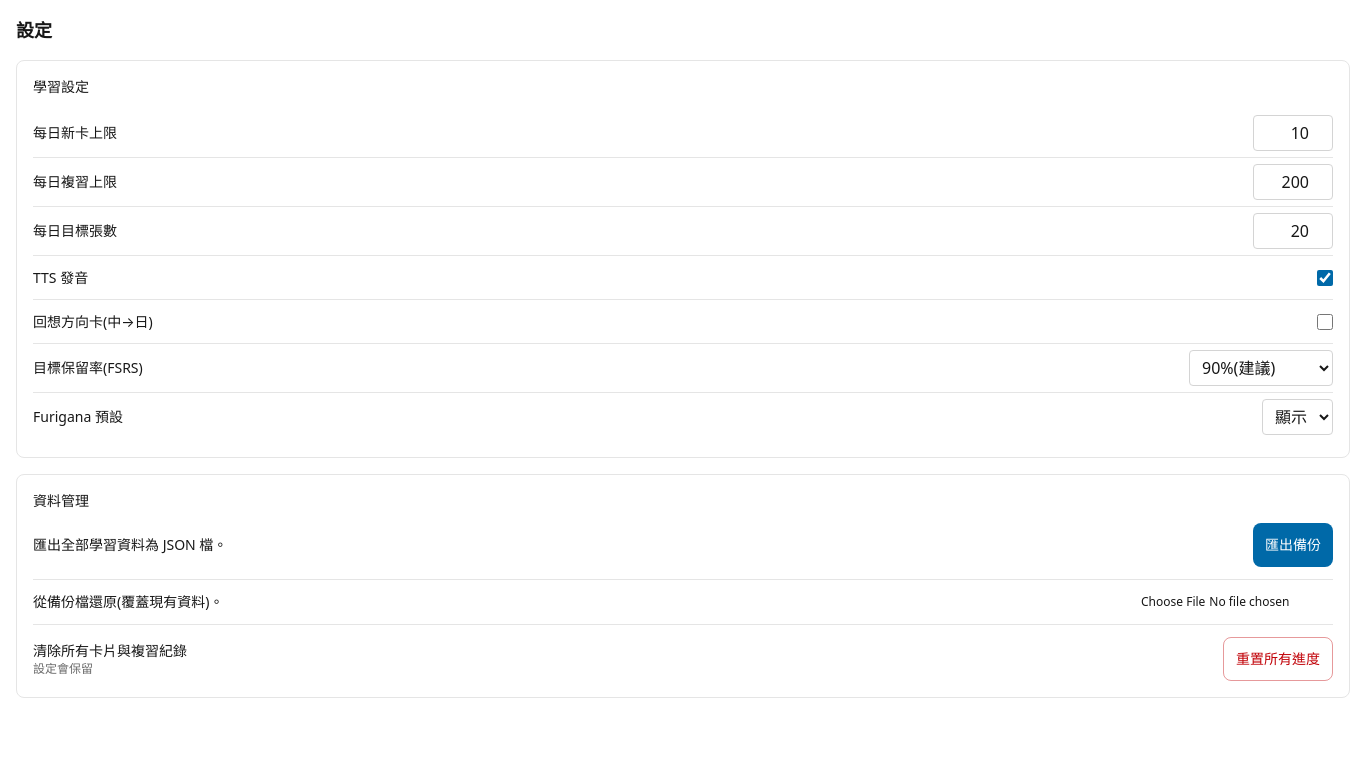
Test: SettingsPage 匯出(F6.2) › 點匯出:以 Blob 觸發下載
Click the button "匯出備份". click: (1293, 545)
box: [1253,523,1333,567]
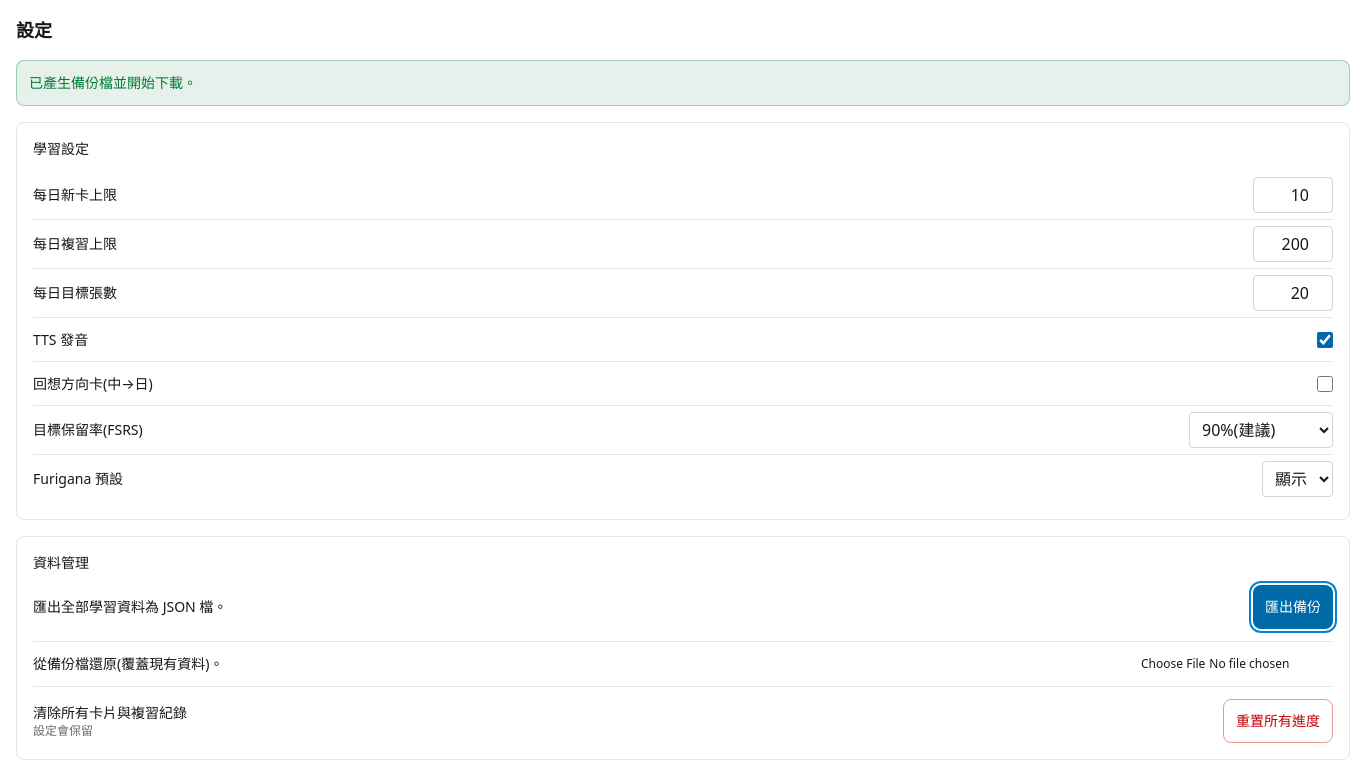
Expected: the text "已產生備份檔並開始下載。" is shown, [16,60,1350,106]
